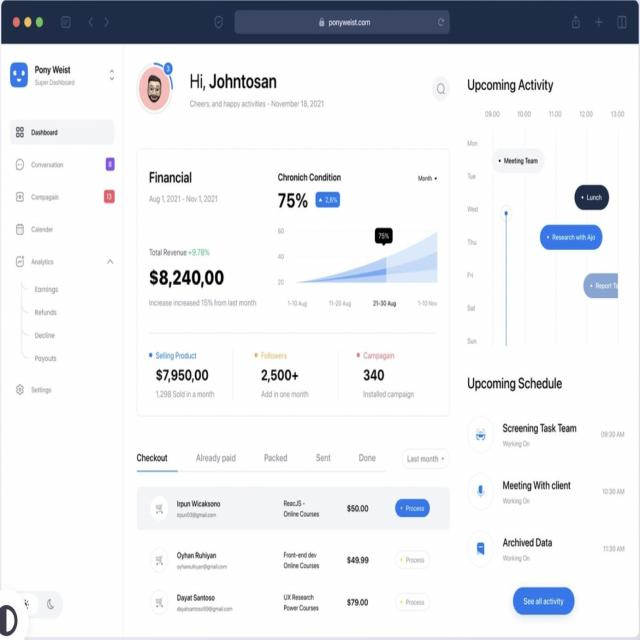button: (513, 588, 574, 616)
input: (234, 9, 450, 34)
select: (404, 449, 449, 469)
